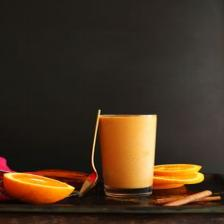orange: (99, 115, 158, 198), (3, 173, 74, 204), (153, 173, 205, 190), (155, 165, 202, 176)
